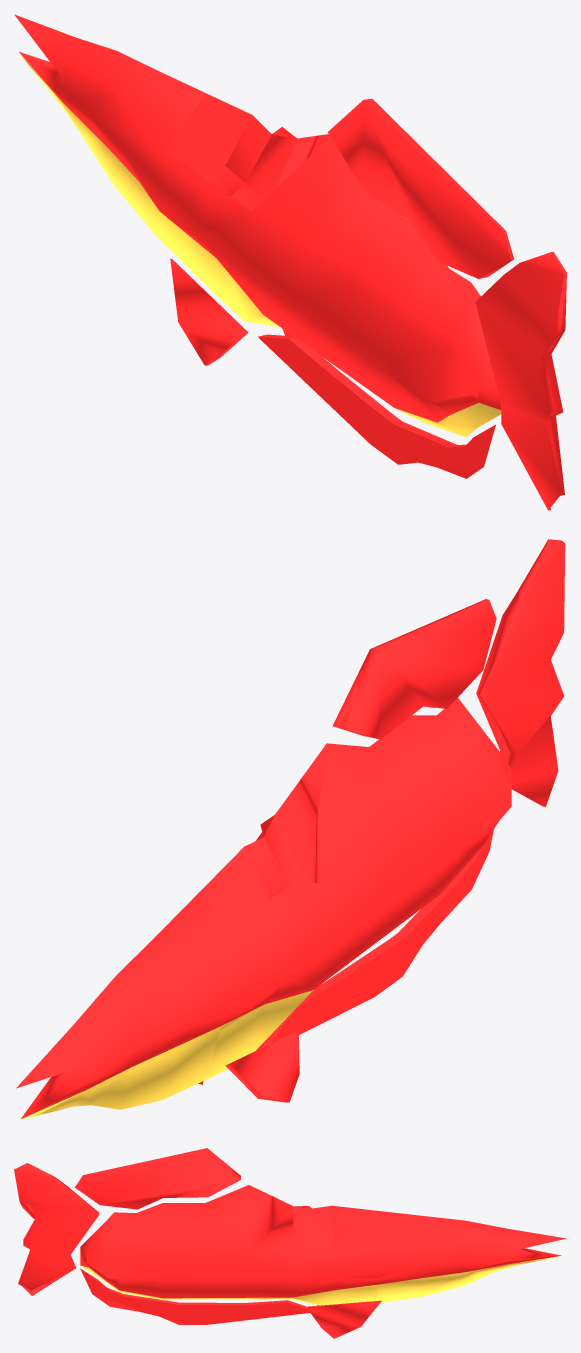
File: Player.gltf
The picture shows the model from 3 angles, top to bottom: view 1: azimuth 30°, elevation 25°; view 2: azimuth 150°, elevation 25°; view 3: azimuth 270°, elevation 25°; orthographic projection. The views are drawn at different scales.
Visible parts, largest first — view 1: Body; view 2: Body; view 3: Body.
Boxes of the visible parts, x1=… form: Body: x1=14, y1=14, x2=566, y2=510; Body: x1=16, y1=539, x2=565, y2=1119; Body: x1=14, y1=1148, x2=566, y2=1338.
Bounding box in the file's own units: 0.3146 × 1.06 × 2.97.
